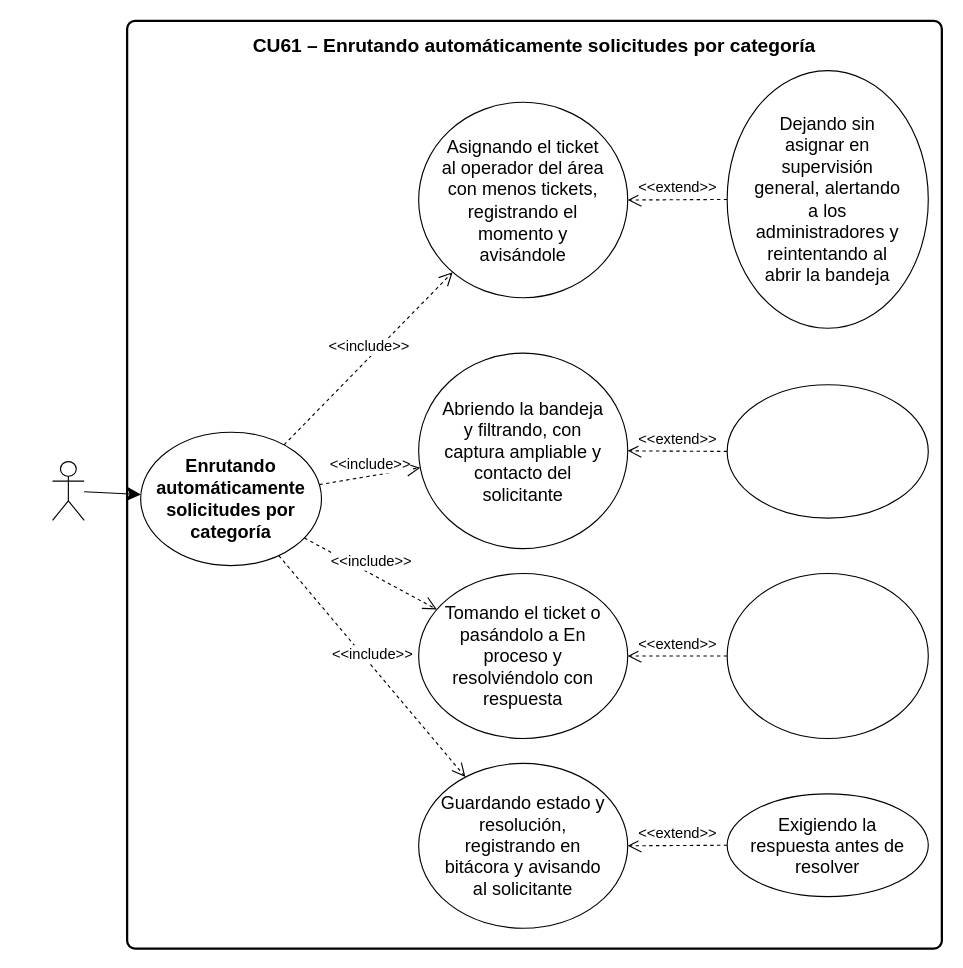
Some shapes in this 963 by 968 pixel diagram are drawn without their labels. The centre of each missing label's shape, as x and y in pixels:
"Administrador" belongs at pixel 67 490.
"Exigiendo iniciar sesión de nuevo por sesión expirada" belongs at pixel 827 451.
"Rechazando la escritura por ticket tomado por otro operador y pidiendo refrescar" belongs at pixel 827 655.
